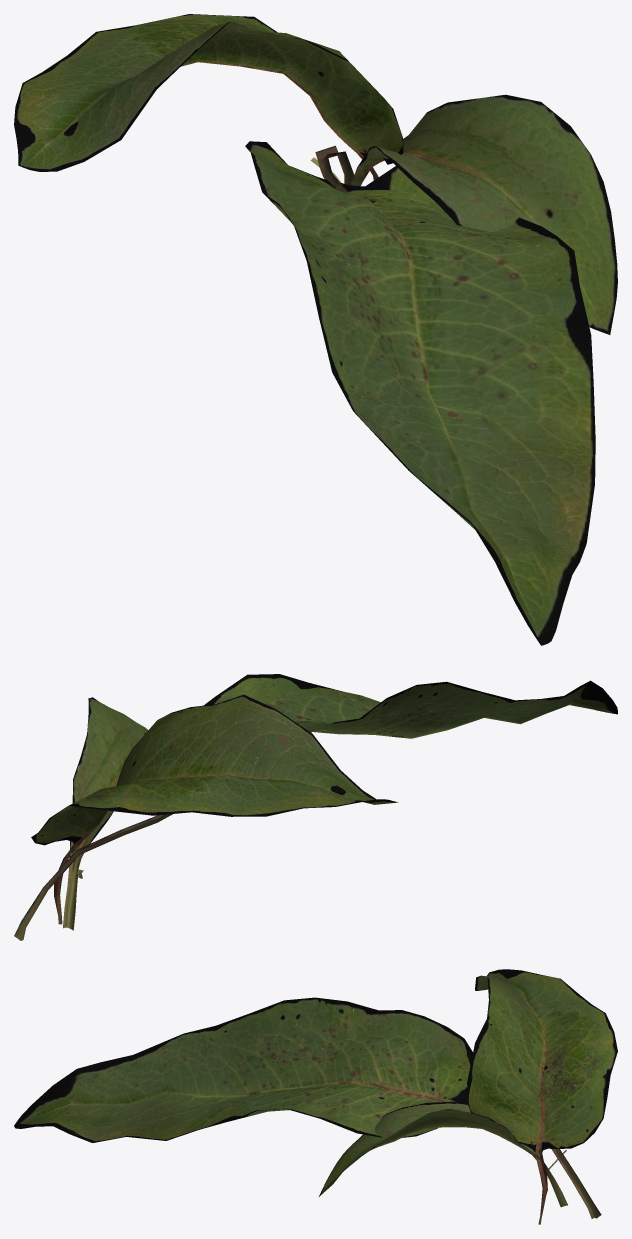
Rendered from weed_leaves.gltf.
3 views of the same model, one above another, from view 1: azimuth 30°, elevation 25°; view 2: azimuth 150°, elevation 25°; view 3: azimuth 270°, elevation 25° (orthographic). The views are drawn at different scales.
Parts seen in each view (by area): view 1: weed_leaves; view 2: weed_leaves; view 3: weed_leaves.
Part boxes in pixels (x1,y1,x2,y2): weed_leaves: (14,14,617,645); weed_leaves: (14,674,617,940); weed_leaves: (14,969,617,1224).
Size of the model in its own units: 0.3918 by 0.2499 by 0.7235.
Materials: 1 (1 with a texture image).
